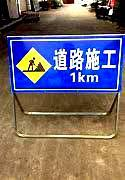sign: (9, 37, 123, 90)
